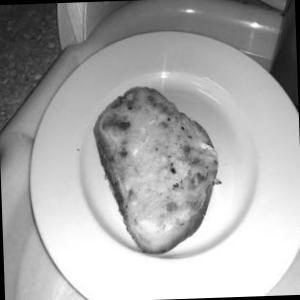cheese_sandwich: (71, 81, 238, 274)
